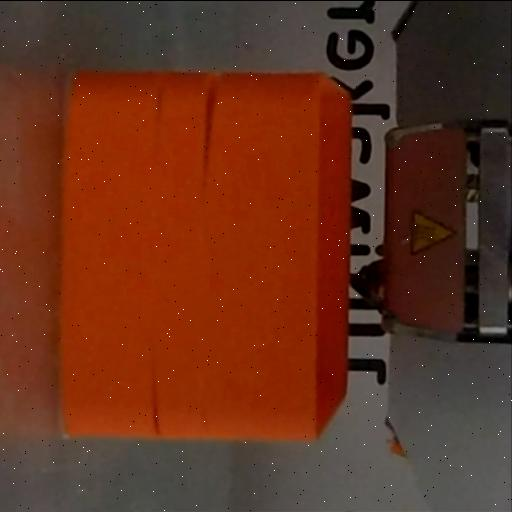cracks: (188, 47, 253, 191), (130, 340, 180, 466)
